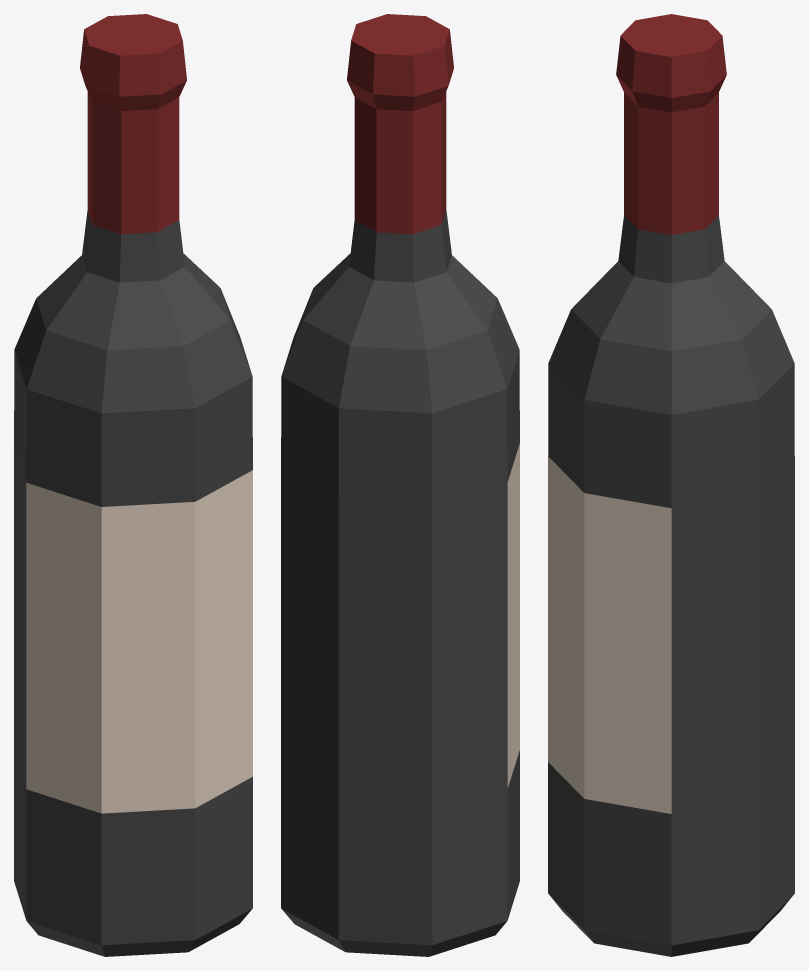
File: wine-bottle-red.fbx
3 renders of one model, left to right at view 1: azimuth 30°, elevation 25°; view 2: azimuth 150°, elevation 25°; view 3: azimuth 270°, elevation 25°, orthographic.
Parts seen in each view (by area): view 1: wine-bottle-red; view 2: wine-bottle-red; view 3: wine-bottle-red.
Boxes of the visible parts, x1,y1,x2,y2 form: wine-bottle-red: (14,14,252,956); wine-bottle-red: (281,14,519,956); wine-bottle-red: (548,14,794,956).
Size of the model in its own units: 0.0847 by 0.3317 by 0.0847.
